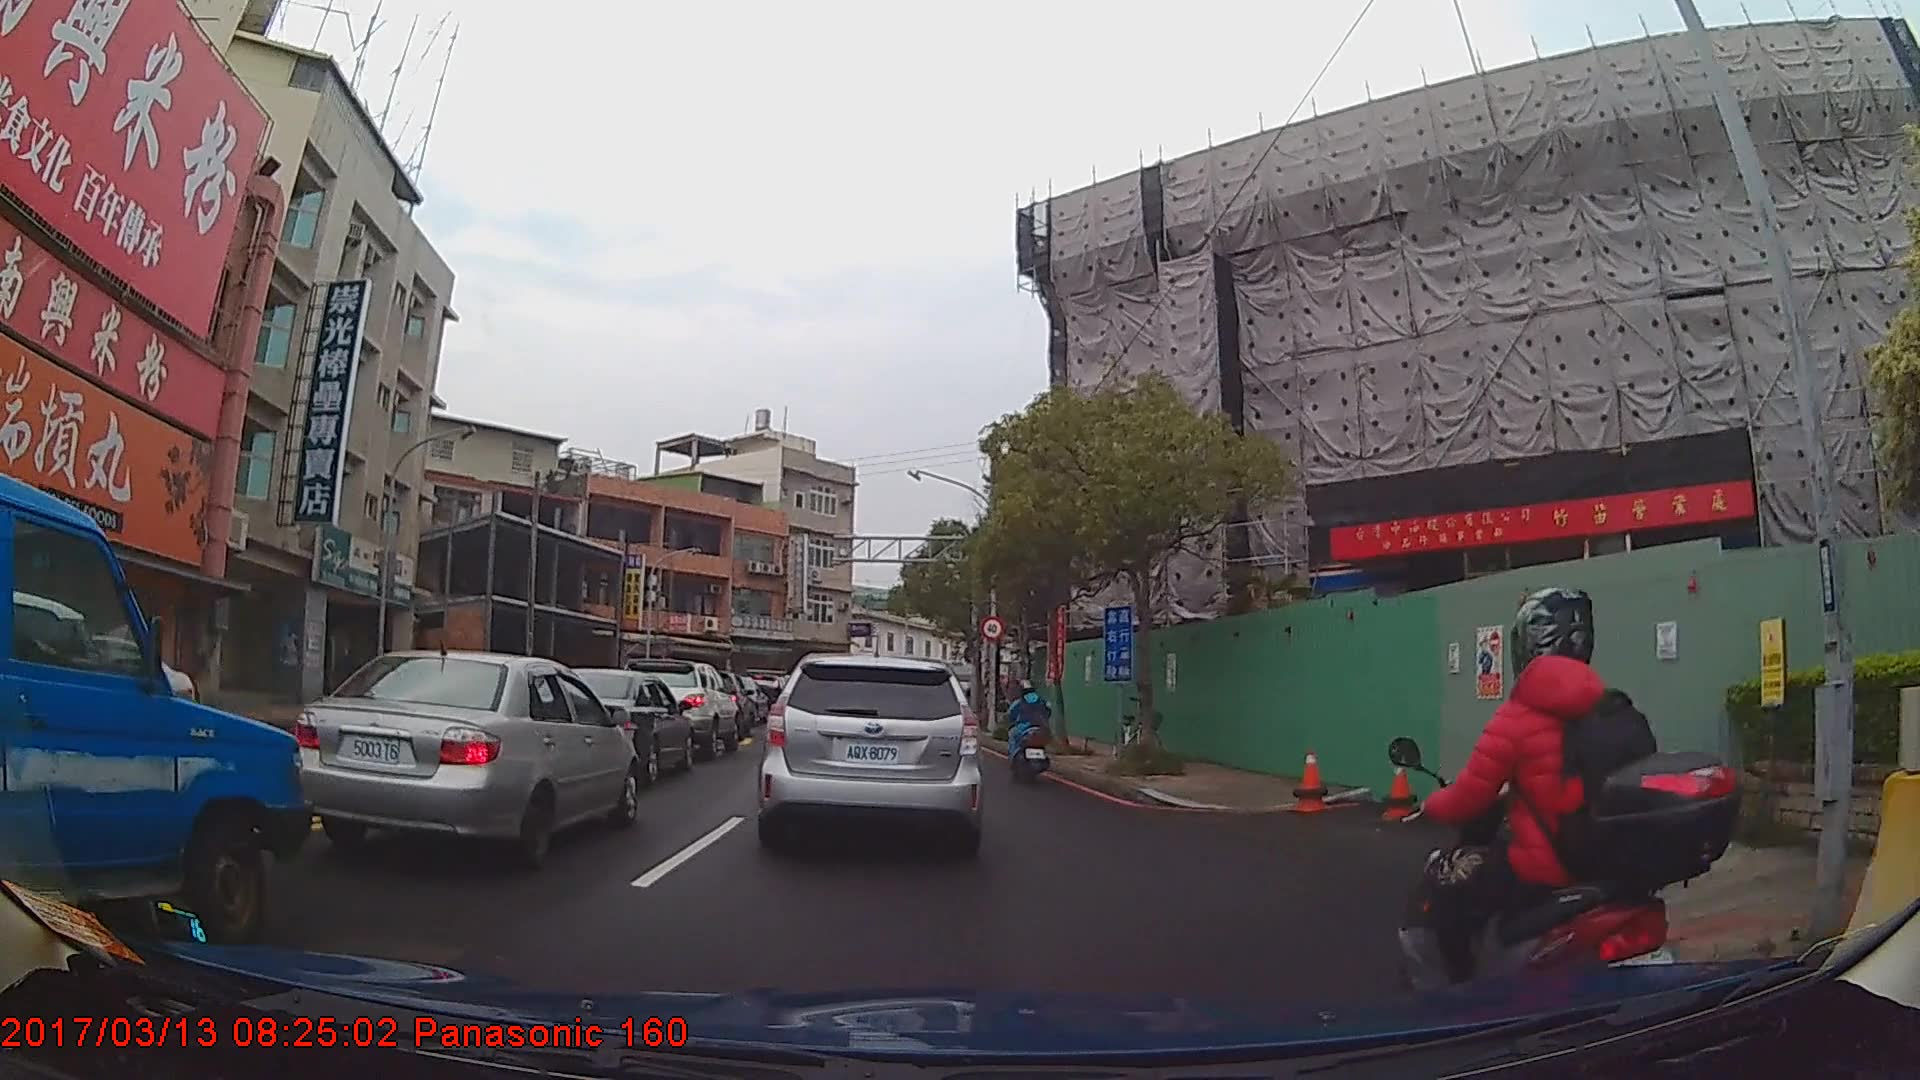rider: (1400, 580, 1752, 1065), (1004, 682, 1055, 786)
vehicle: (0, 474, 302, 963), (282, 649, 638, 871), (759, 652, 982, 853), (538, 667, 695, 784), (616, 656, 738, 761)
